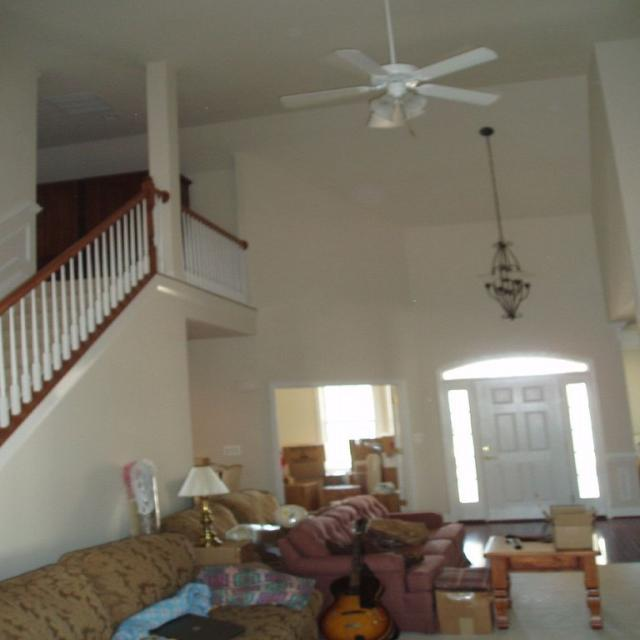fan_off: (278, 39, 504, 112)
